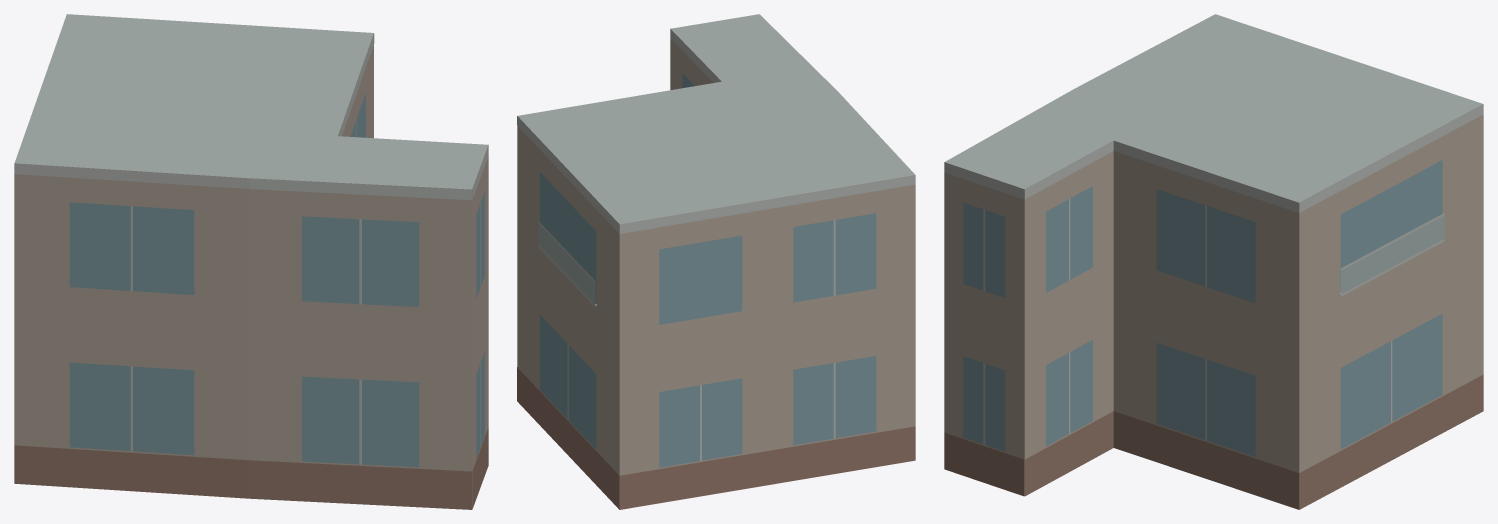
File: survey-upis-32895752.glb
3 views of the same model, side by side, from view 1: azimuth 30°, elevation 25°; view 2: azimuth 150°, elevation 25°; view 3: azimuth 270°, elevation 25° (orthographic). The views are drawn at different scales.
Visible parts, largest first — view 1: survey-upis-32895752.tmp; view 2: survey-upis-32895752.tmp; view 3: survey-upis-32895752.tmp.
Boxes of the visible parts, x1=… form: survey-upis-32895752.tmp: x1=14, y1=14, x2=488, y2=509; survey-upis-32895752.tmp: x1=517, y1=14, x2=915, y2=509; survey-upis-32895752.tmp: x1=944, y1=14, x2=1483, y2=509.
Size of the model in its own units: 9.56 by 7.25 by 11.54.
